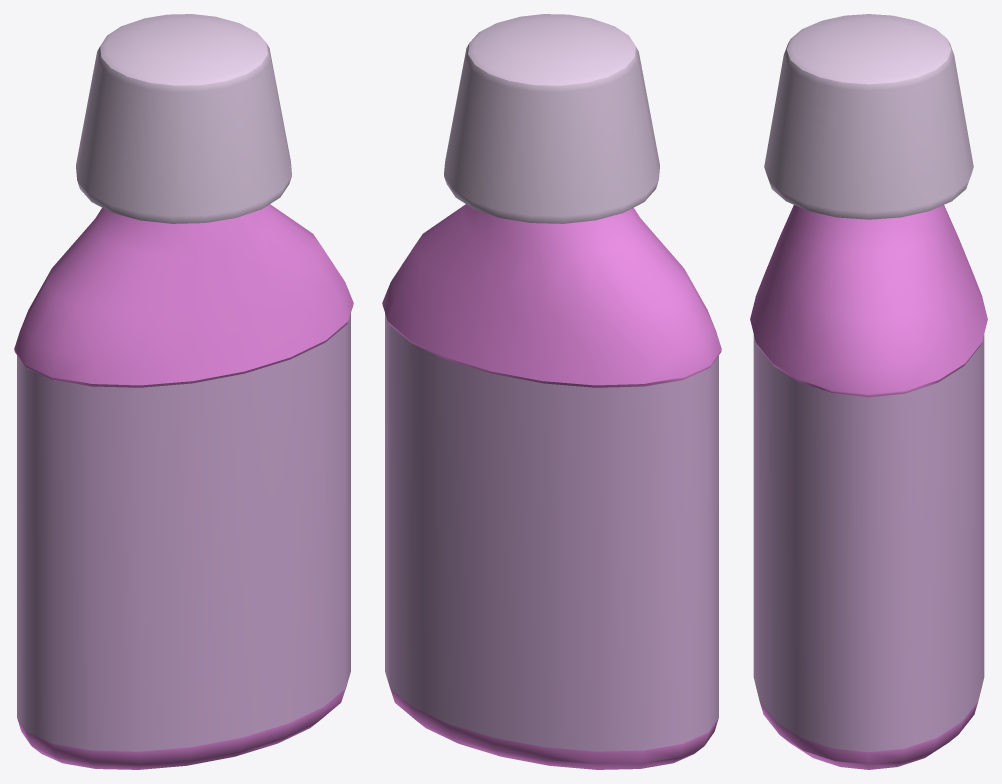
Rendered from SM_PeptoBismol.fbx.
3 views of the same model, side by side, from view 1: azimuth 30°, elevation 25°; view 2: azimuth 150°, elevation 25°; view 3: azimuth 270°, elevation 25° (orthographic). The views are drawn at different scales.
Parts seen in each view (by area): view 1: SM_PeptoBismol; view 2: SM_PeptoBismol; view 3: SM_PeptoBismol.
Part boxes in pixels (x1=…): SM_PeptoBismol: x1=14, y1=14, x2=353, y2=769; SM_PeptoBismol: x1=382, y1=14, x2=721, y2=769; SM_PeptoBismol: x1=750, y1=14, x2=987, y2=769.
Size of the model in its own units: 7.61 by 15.66 by 5.06.
